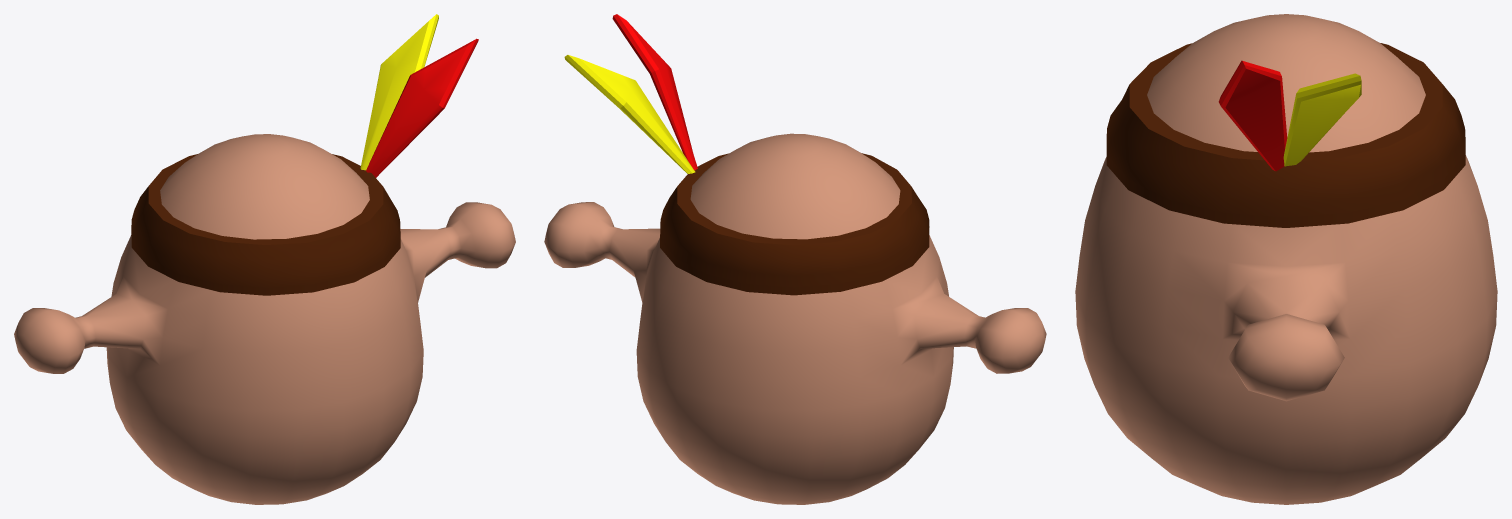
File: Aboriginal_02.fbx
3 views of the same model, side by side, from view 1: azimuth 30°, elevation 25°; view 2: azimuth 150°, elevation 25°; view 3: azimuth 270°, elevation 25° (orthographic). The views are drawn at different scales.
Parts seen in each view (by area): view 1: polySurface29; view 2: polySurface29; view 3: polySurface29.
Boxes of the visible parts, <box> form: polySurface29: <box>14,14,515,504</box>; polySurface29: <box>544,14,1046,504</box>; polySurface29: <box>1075,14,1497,504</box>.
Size of the model in its own units: 89.19 by 72.62 by 50.7.
